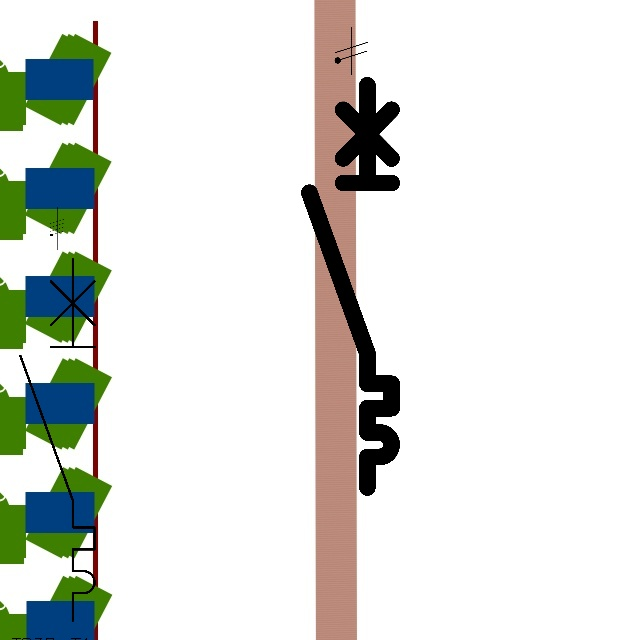interruptor_termomagnetico: (299, 74, 402, 497), (11, 250, 104, 630)
